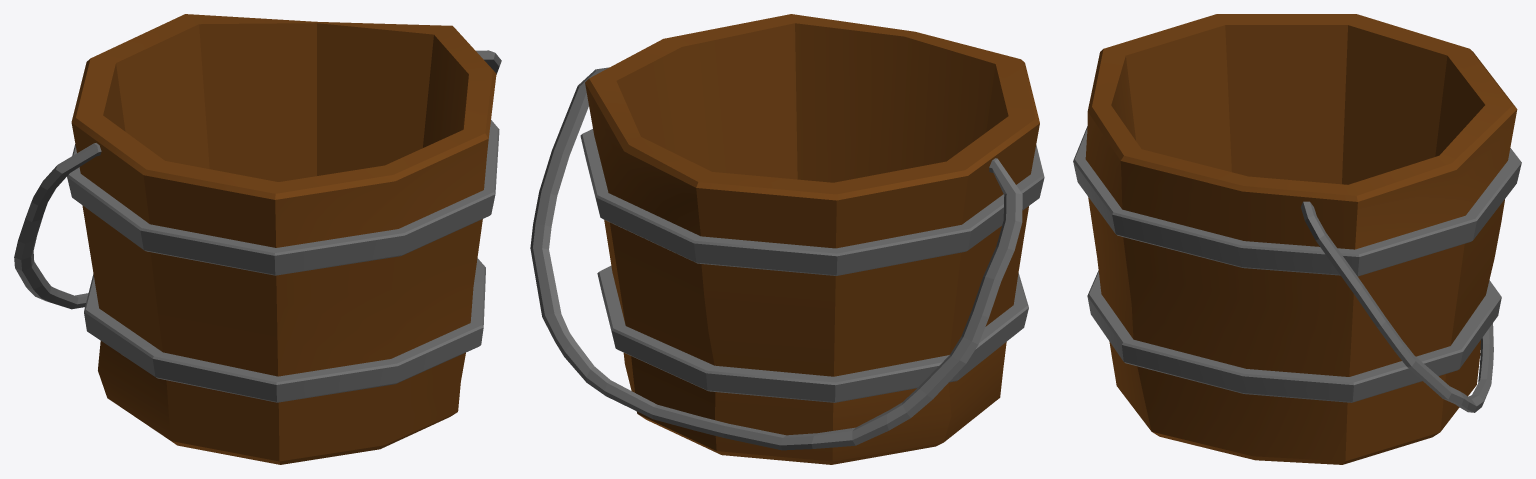
Rendered from Bucket1.fbx.
The picture shows the model from 3 angles, left to right: view 1: azimuth 30°, elevation 25°; view 2: azimuth 150°, elevation 25°; view 3: azimuth 270°, elevation 25°; orthographic projection.
Parts seen in each view (by area): view 1: Cylinder; view 2: Cylinder; view 3: Cylinder.
Boxes of the visible parts, <box> form: Cylinder: <box>14,14,501,464</box>; Cylinder: <box>530,14,1044,464</box>; Cylinder: <box>1073,14,1521,464</box>.
Size of the model in its own units: 67.15 by 41.02 by 57.16.
